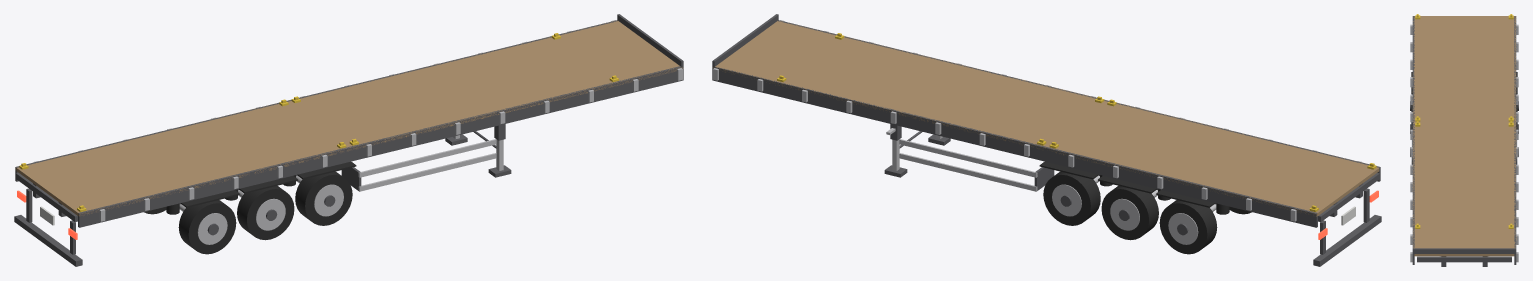
Rendered from SM_FlatbedTrailer.fbx.
3 views of the same model, side by side, from view 1: azimuth 30°, elevation 25°; view 2: azimuth 150°, elevation 25°; view 3: azimuth 270°, elevation 25° (orthographic). The views are drawn at different scales.
Visible parts, largest first — view 1: FT_Chassis, FT_Wheel_A1R, FT_Wheel_A2R, FT_Wheel_A3R, FT_LandingLegs; view 2: FT_Chassis, FT_Wheel_A1L, FT_Wheel_A2L, FT_Wheel_A3L, FT_LandingLegs; view 3: FT_Chassis.
Part boxes in pixels (x1,y1,x2,y2): FT_Chassis: (14,14,683,266); FT_Wheel_A1R: (295,171,352,225); FT_Wheel_A2R: (237,185,294,240); FT_Wheel_A3R: (178,200,236,254); FT_LandingLegs: (445,131,511,177); FT_Chassis: (712,14,1381,266); FT_Wheel_A1L: (1043,171,1100,225); FT_Wheel_A2L: (1101,185,1158,240); FT_Wheel_A3L: (1159,200,1217,254); FT_LandingLegs: (884,131,950,177); FT_Chassis: (1410,14,1518,266).
Bounding box in the file's own units: 1369 × 167 × 263.
